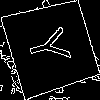Y: (25, 22, 80, 68)
